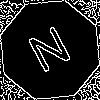N: (25, 25, 78, 83)
